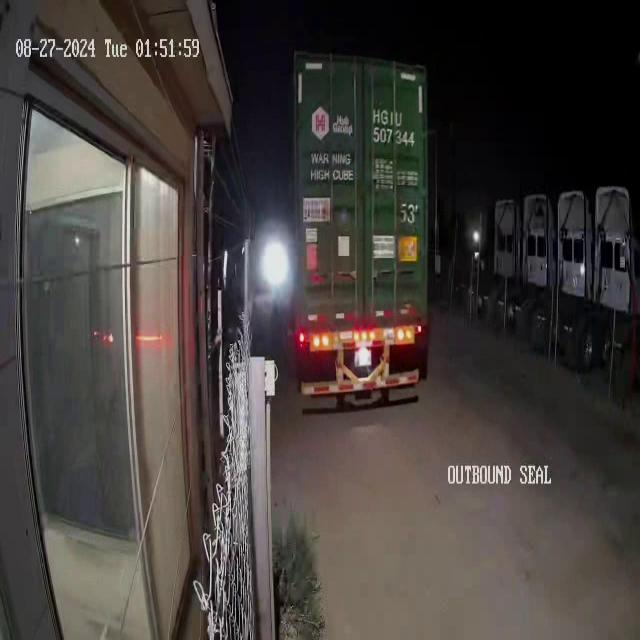CONTAINER: (289, 48, 431, 346)
